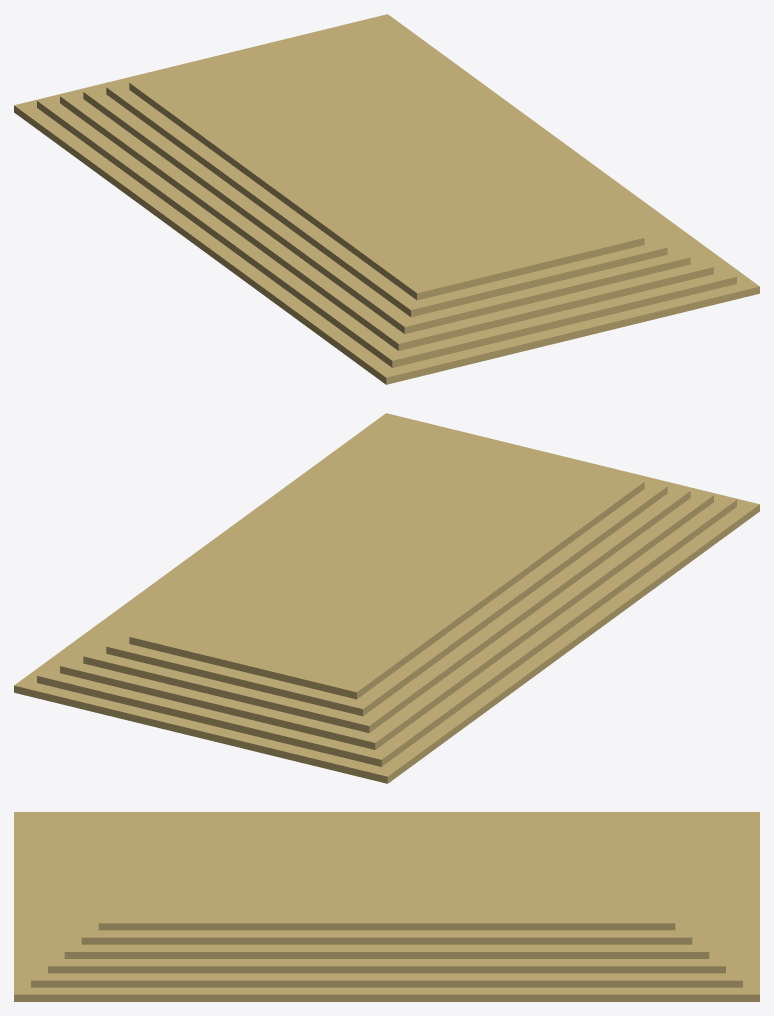
File: Ruins_Stairs_Rect_01.fbx
The picture shows the model from 3 angles, top to bottom: view 1: azimuth 30°, elevation 25°; view 2: azimuth 150°, elevation 25°; view 3: azimuth 270°, elevation 25°; orthographic projection.
Visible parts, largest first — view 1: Model; view 2: Model; view 3: Model.
Part boxes in pixels (x1,y1,x2,y2): Model: (14, 14, 759, 384); Model: (14, 413, 759, 783); Model: (14, 812, 759, 1001).
Size of the model in its own units: 439 by 48 by 757.
